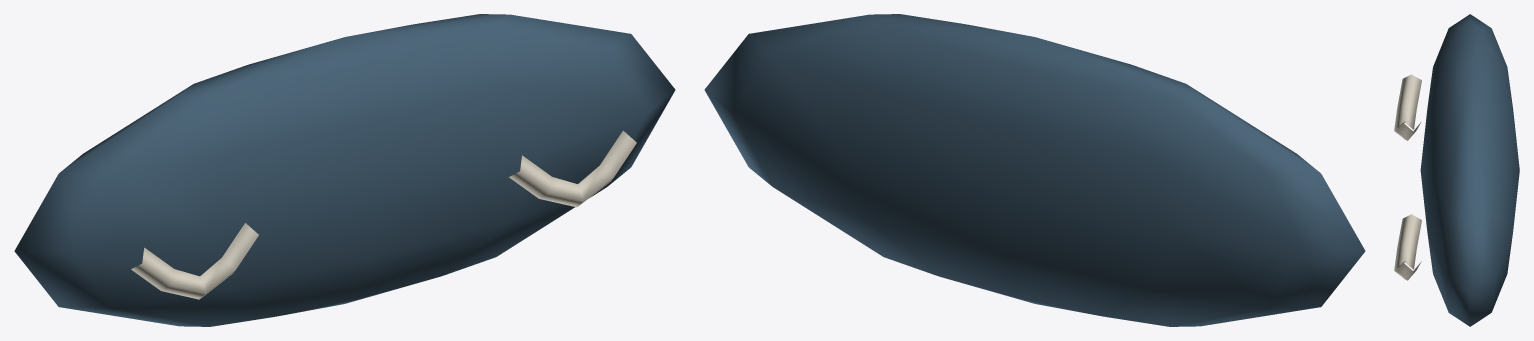
Rendered from eye_mask.glb.
3 renders of one model, left to right at view 1: azimuth 30°, elevation 25°; view 2: azimuth 150°, elevation 25°; view 3: azimuth 270°, elevation 25°, orthographic. The views are drawn at different scales.
Visible parts, largest first — view 1: eye_mask; view 2: eye_mask; view 3: eye_mask.
Boxes of the visible parts, left/top/right/bottom form: eye_mask: left=14, top=14, right=675, bottom=326; eye_mask: left=704, top=14, right=1365, bottom=326; eye_mask: left=1394, top=14, right=1519, bottom=326.
Bounding box in the file's own units: 0.315 × 0.1215 × 0.0684.
